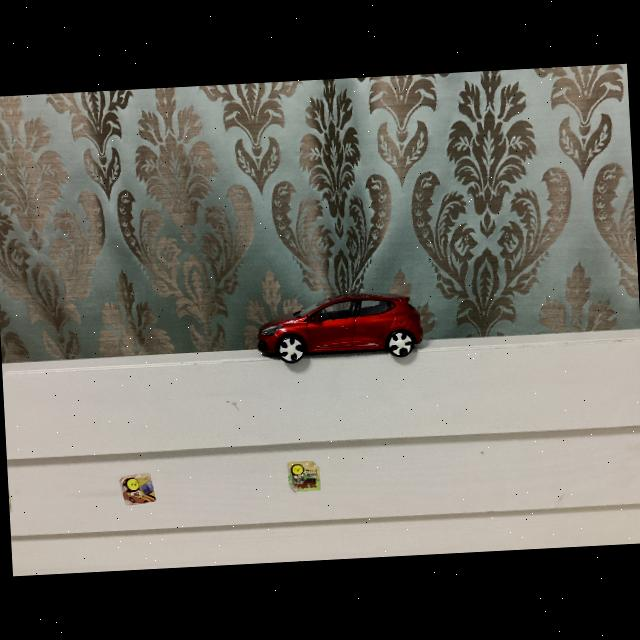Yanlis_Jant: (278, 337, 304, 362), (390, 334, 413, 356)
